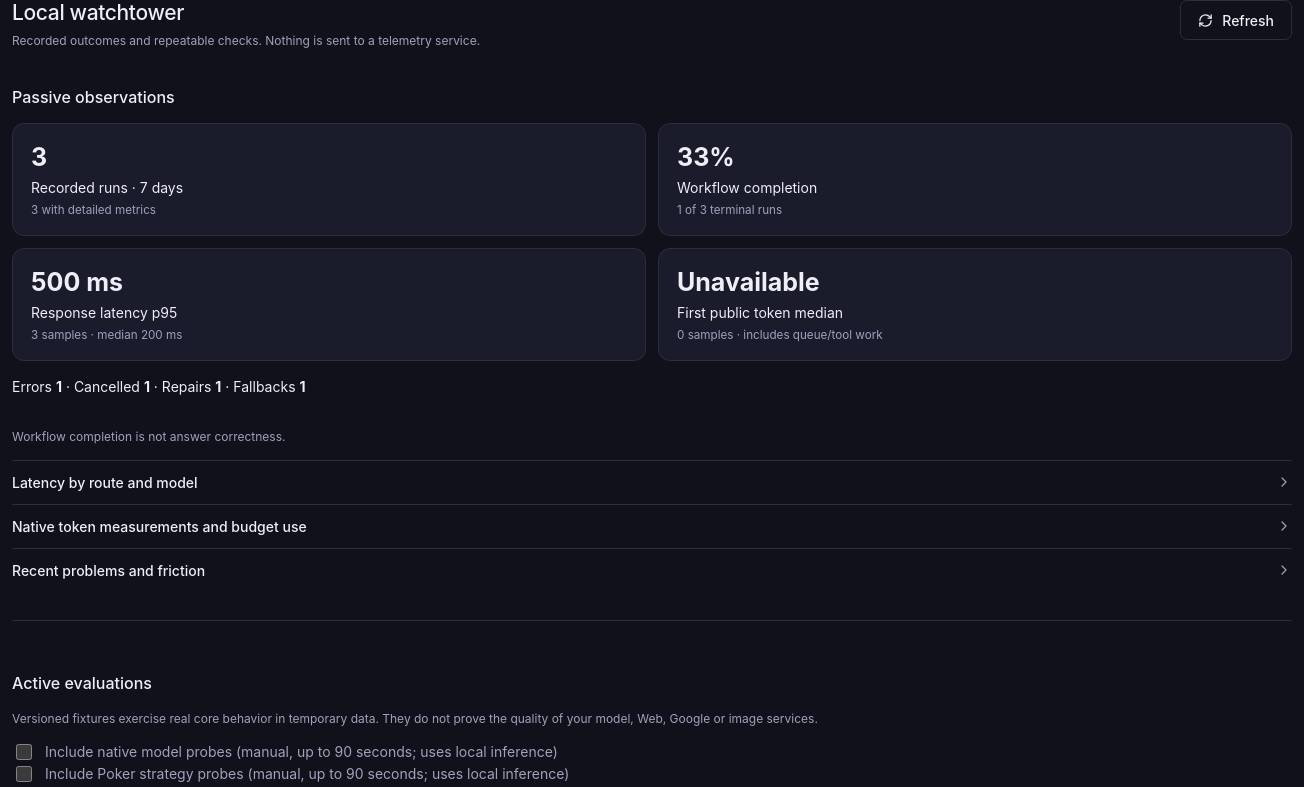
it: local watchtower › keeps chat limits out of Poker budgets with recorded ceiling $generationLimit
The image size is (1304, 787).
Expected: the text "Recorded runs · 7 days" is shown, [31,179,183,196]
Click the button "Native token measurements and budget use" at (159, 526), box [12,518,1292,535]
(page scrolled)
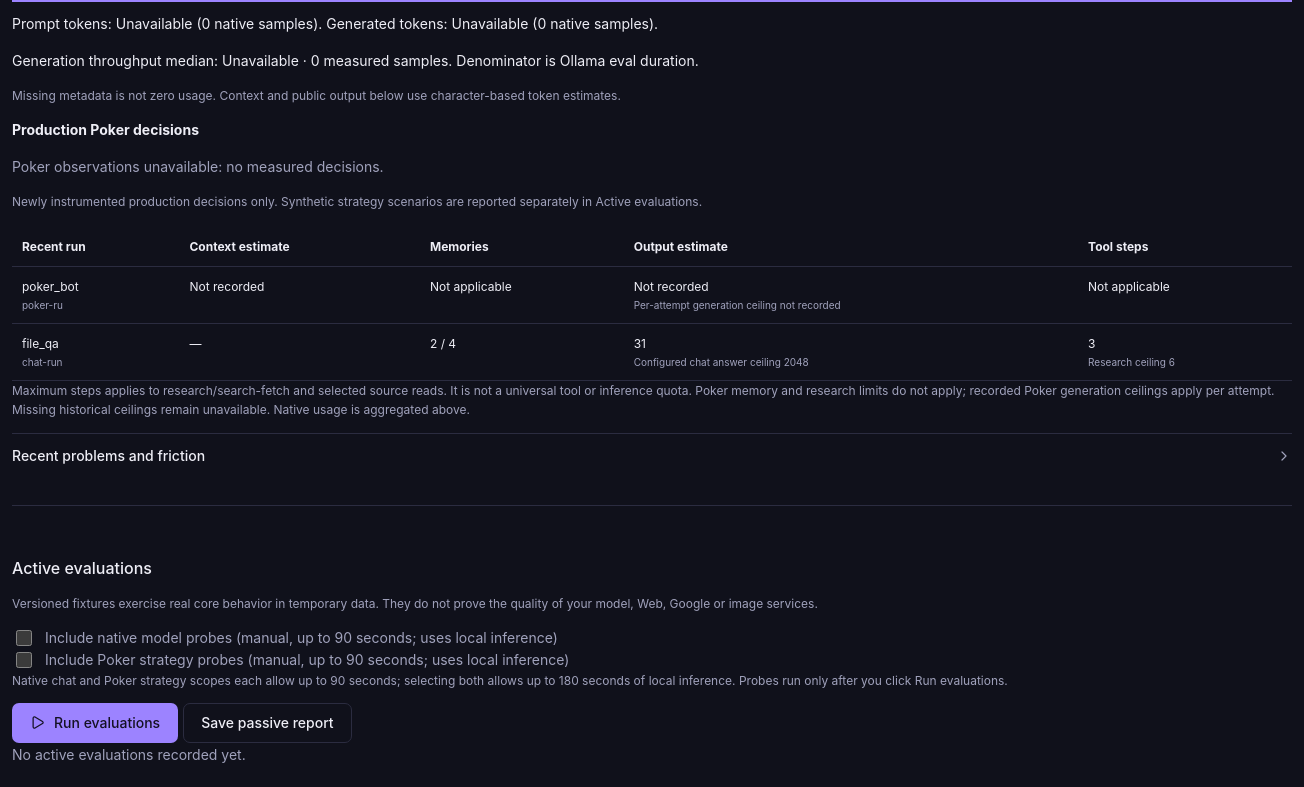
Now the cell "Not recorded" is shown, box [180,266,420,323]
Now the 1st cell "Not applicable" is shown, box [420,266,624,323]
Now the cell "Not recorded Per-attempt generation ceiling not recorded" is shown, box [624,266,1078,323]
